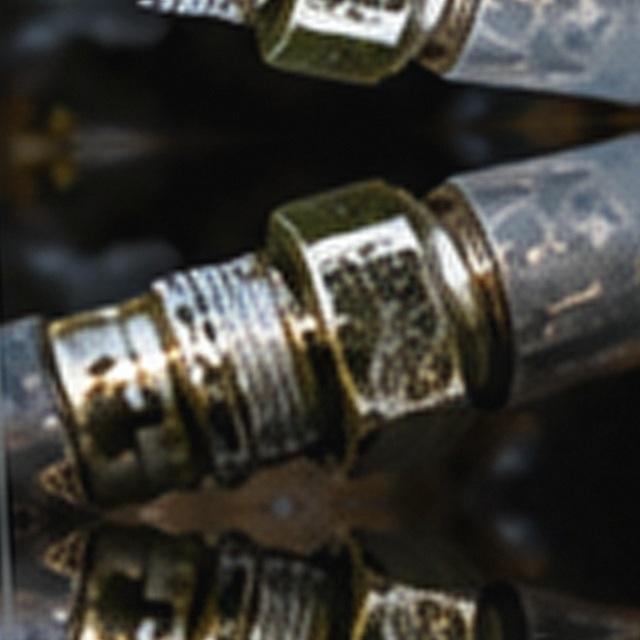hydraulic_oil_leak: (195, 190, 461, 420)
